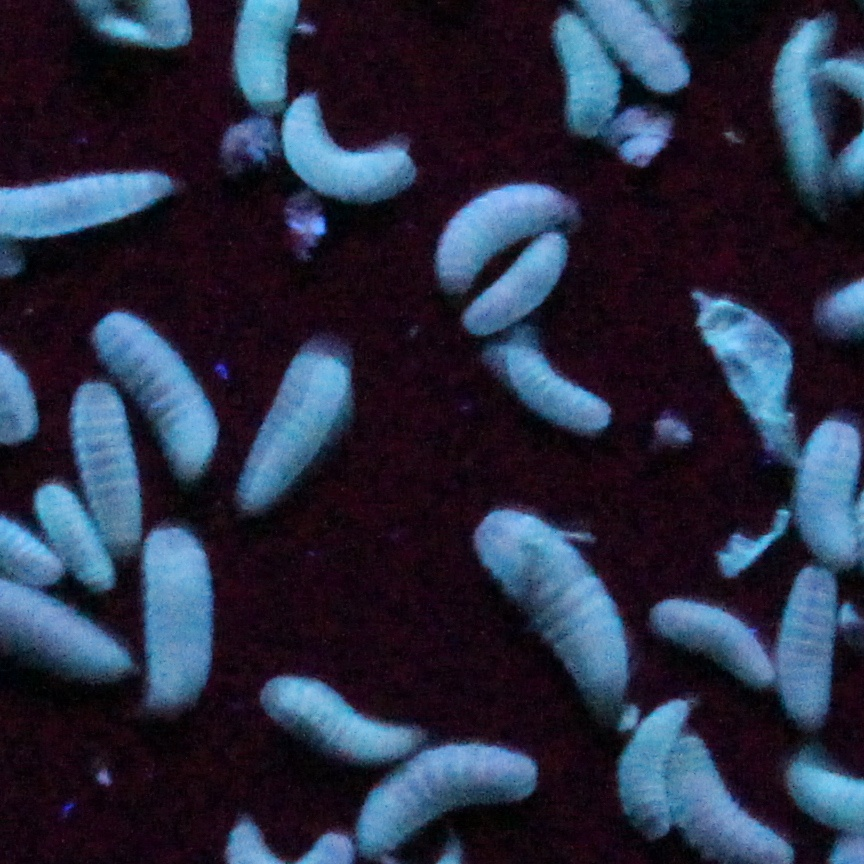larve: (467, 503, 646, 696), (87, 308, 237, 485), (244, 328, 373, 505), (358, 751, 558, 853), (133, 526, 224, 724), (253, 664, 430, 762), (283, 89, 424, 208), (433, 187, 571, 287), (619, 687, 694, 846), (496, 335, 617, 428), (655, 594, 778, 685), (776, 558, 837, 728), (469, 233, 564, 339), (796, 417, 858, 576), (33, 469, 114, 589), (780, 14, 828, 185), (549, 14, 612, 126)
